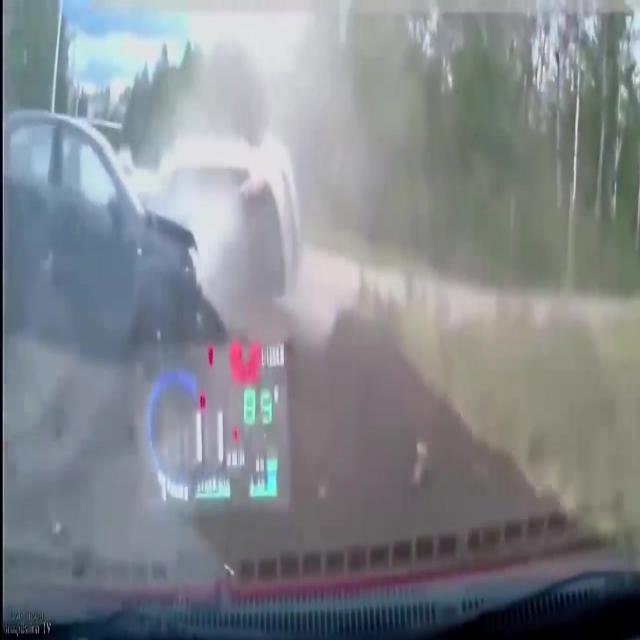accident: (4, 78, 198, 362), (150, 112, 331, 319)
